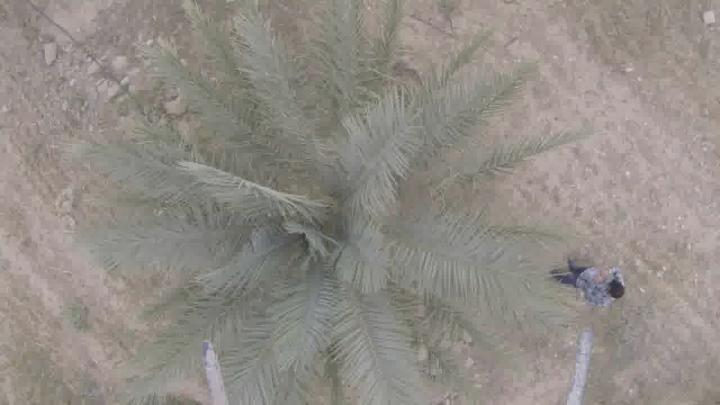Date-Palm-Crown: (175, 98, 479, 338)
